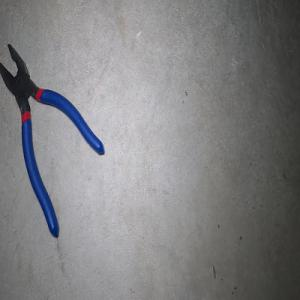Pliers: (0, 43, 104, 237)
